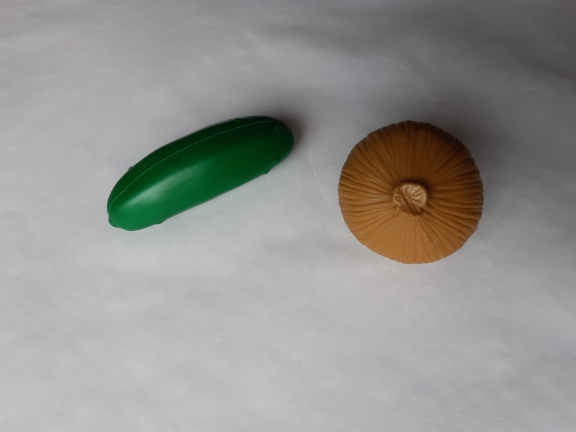cucumber: (101, 100, 303, 238)
onion: (327, 113, 490, 274)
